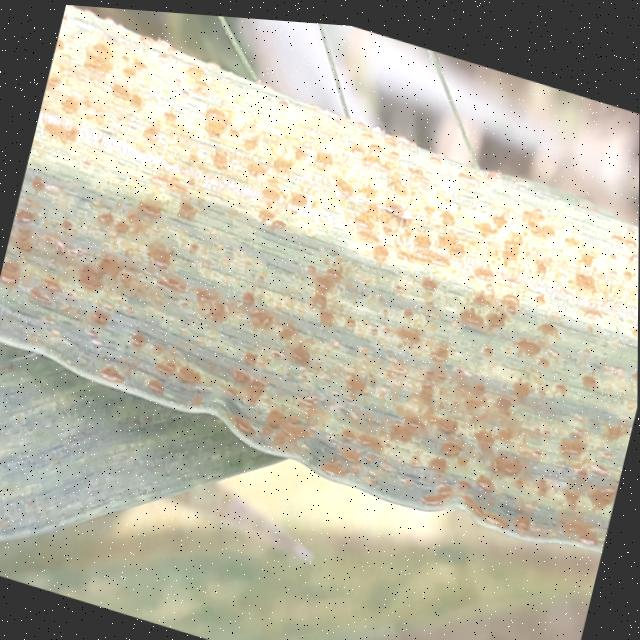orang_rust: (0, 0, 640, 561), (0, 348, 268, 640)
